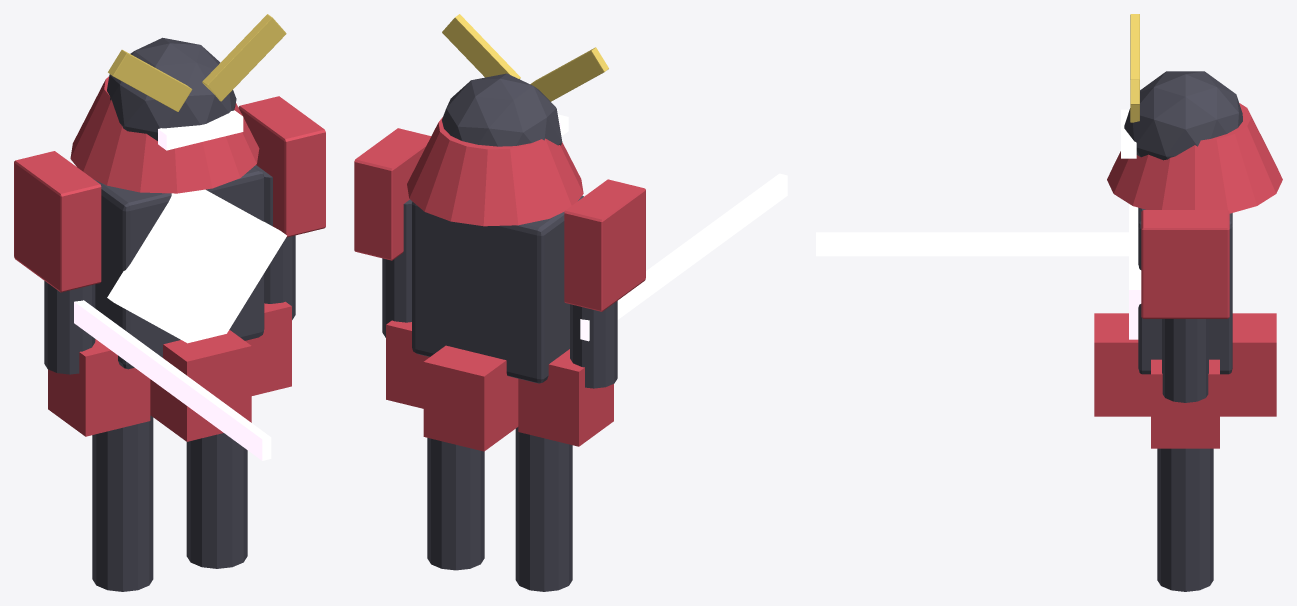
The model's file is crimson_samurai_kuro.fbx.
3 renders of one model, left to right at view 1: azimuth 30°, elevation 25°; view 2: azimuth 150°, elevation 25°; view 3: azimuth 270°, elevation 25°, orthographic. The views are drawn at different scales.
Parts seen in each view (by area): view 1: Cube.001, Cube.010, Cone, Cylinder.003, Cube, Cube.009, Cylinder.002, Cube.005, Cube.004, Icosphere, Cube.011, Cylinder.001 (+5 smaller); view 2: Cube, Cone, Cube.010, Cylinder.003, Cube.003, Cylinder.002, Icosphere, Cube.009, Cube.004, Cube.011, Cylinder.001, Cube.002 (+3 smaller); view 3: Cone, Cube.009, Cylinder.002, Cube.011, Icosphere, Cube.003, Cube.005, Cube.002, Cylinder, Cube, Cube.001, Cube.006.
Boxes of the visible parts, x1,y1,x2,y2 form: Cube.001: (107, 189, 286, 343); Cube.010: (14, 151, 101, 292); Cone: (70, 76, 259, 193); Cylinder.003: (92, 415, 153, 591); Cube: (93, 166, 264, 369); Cube.009: (238, 96, 325, 237); Cylinder.002: (186, 433, 247, 568); Cube.005: (150, 330, 251, 441); Cube.004: (48, 339, 150, 436); Icosphere: (107, 37, 236, 140); Cube.011: (74, 300, 271, 460); Cylinder.001: (44, 281, 95, 374); Cube: (412, 195, 583, 383); Cone: (407, 117, 583, 226); Cube.010: (564, 179, 645, 311); Cylinder.003: (515, 427, 572, 591); Cube.003: (423, 345, 518, 451); Cylinder.002: (427, 438, 484, 570); Icosphere: (442, 73, 562, 146); Cube.009: (354, 128, 430, 260); Cube.004: (518, 349, 613, 446); Cube.011: (580, 173, 787, 341); Cylinder.001: (570, 301, 617, 388); Cube.002: (386, 320, 429, 408); Cone: (1107, 103, 1282, 213); Cube.009: (1141, 210, 1229, 318); Cylinder.002: (1157, 448, 1213, 591); Cube.011: (816, 232, 1128, 256); Icosphere: (1124, 71, 1242, 160); Cube.003: (1220, 313, 1276, 416); Cube.005: (1094, 313, 1150, 416); Cube.002: (1151, 359, 1219, 448); Cylinder: (1162, 319, 1208, 402); Cube: (1138, 207, 1232, 374); Cube.001: (1129, 204, 1141, 339); Cube.006: (1130, 14, 1139, 79).
Size of the model in its own units: 0.9016 by 1.8 by 1.49.
